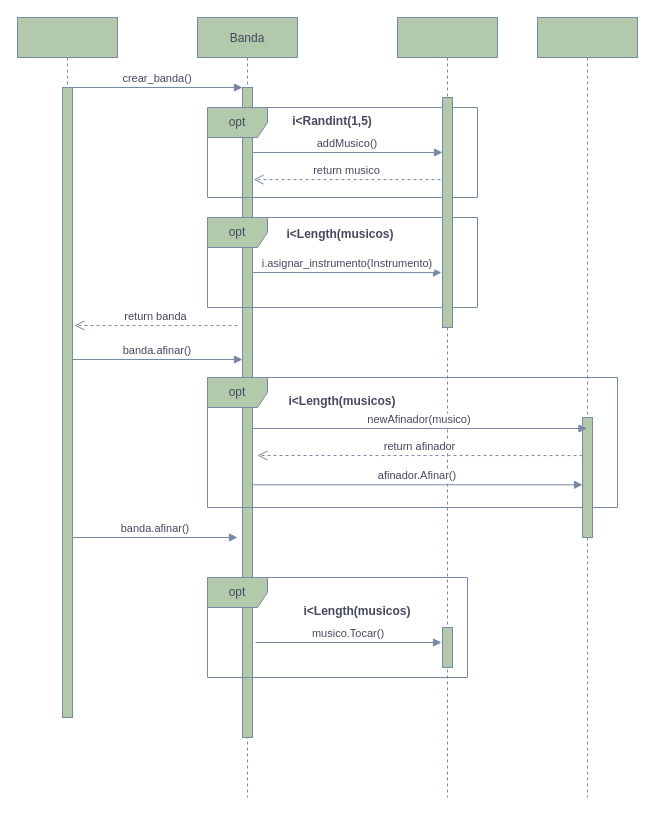
The diagram is 655 pixels wide and 815 high, and some of its shapes have lost their labels. Here are the shapes that lost their labels. From the top down, the box of each, then its label:
(16, 16, 118, 718): :Principal
(396, 16, 498, 798): Musico
(536, 16, 638, 798): Afinador
